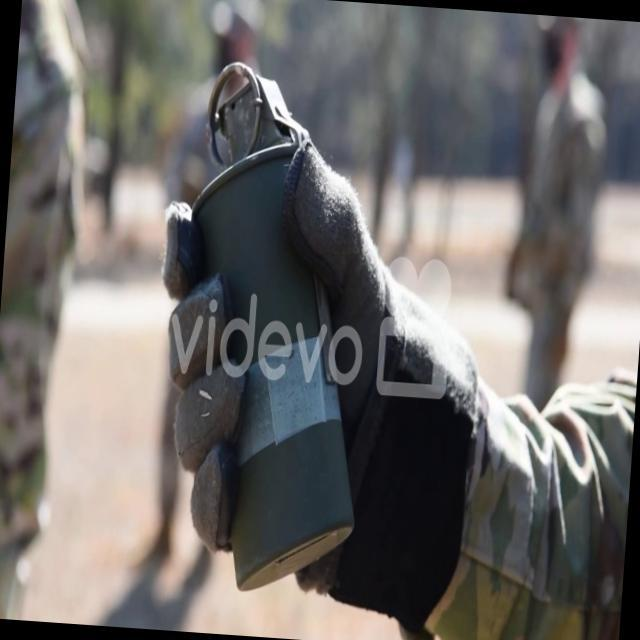grenade: (152, 54, 390, 602)
